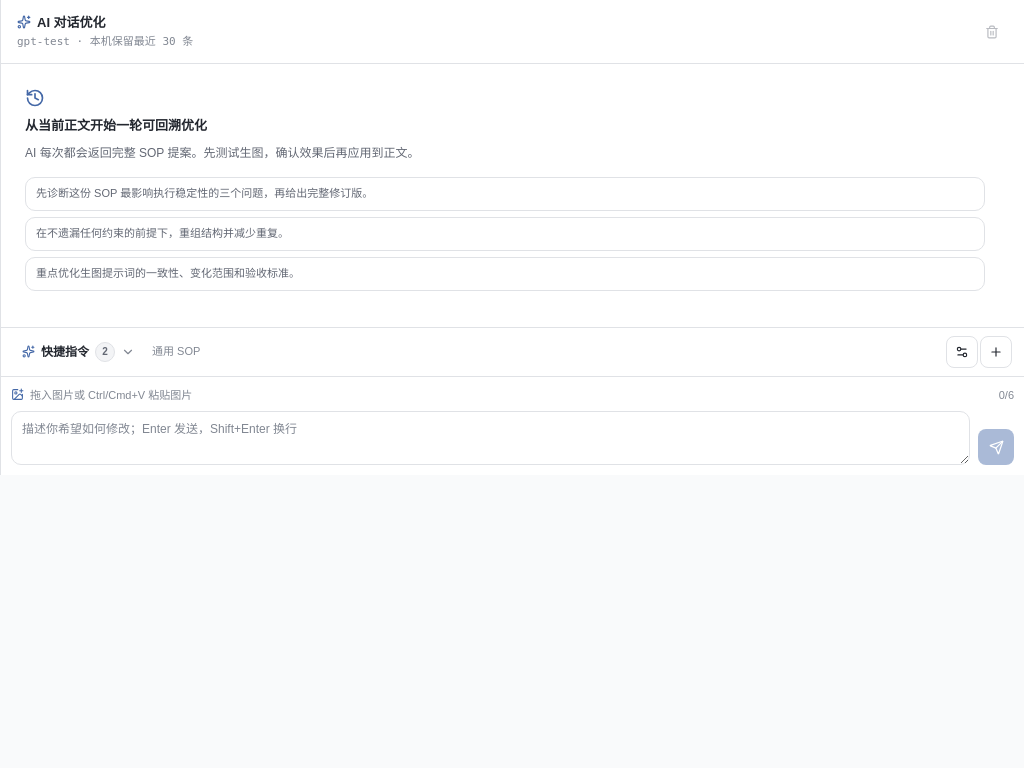
SopAiRevisionPanel custom quick instructions › restores custom instructions from localStorage and fills the composer when clicked
Click the button "快捷指令 2" at (78, 352), box [13,336,144,368]
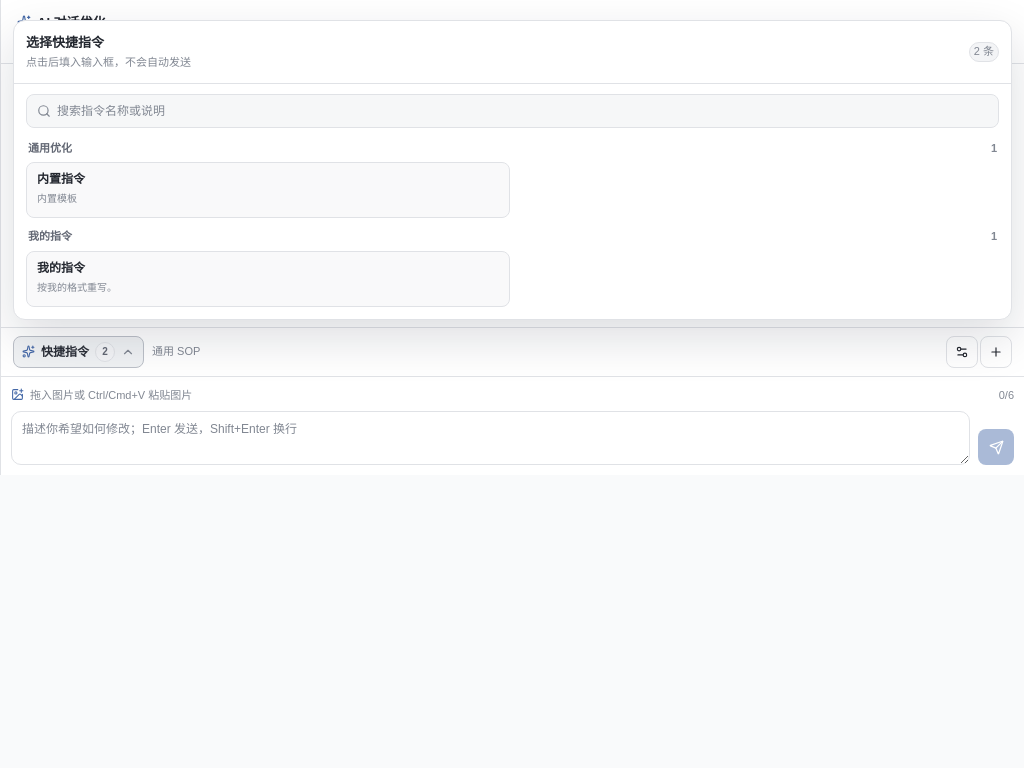
Check: the button "内置指令 内置模板" is shown, box [26,162,510,218]
Check: the button "我的指令 按我的格式重写。" is shown
Click the button "我的指令 按我的格式重写。" at (61, 268), box [26,250,510,306]
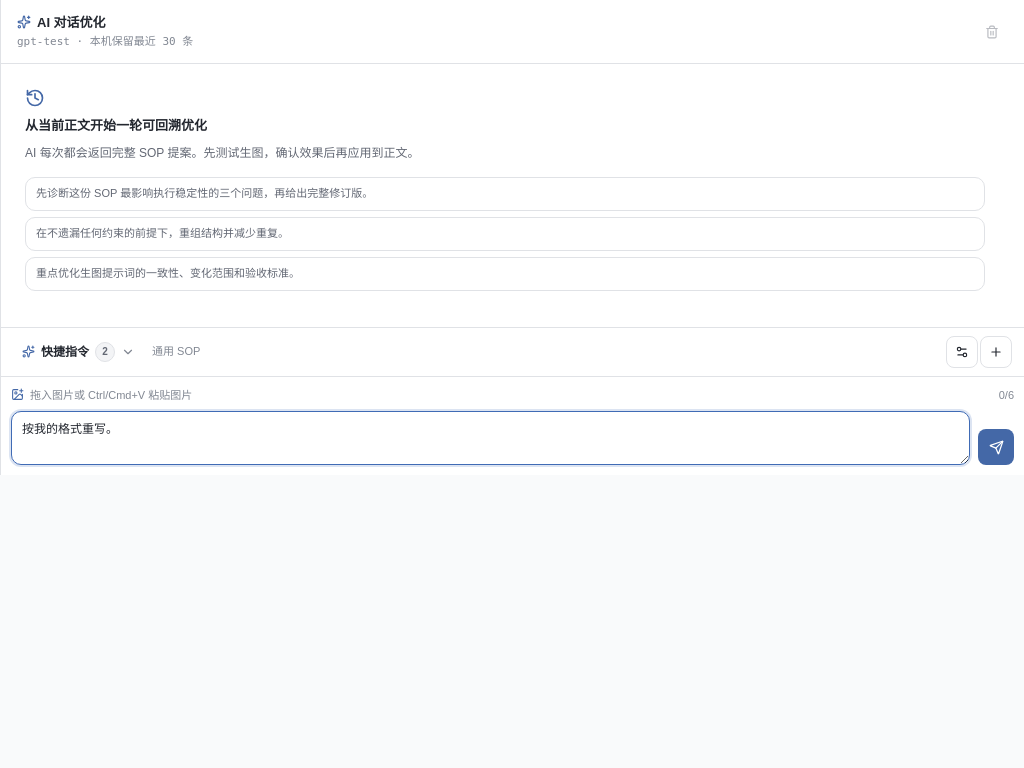
Check: the text box named "向 AI 描述 SOP 修改要求" holds "按我的格式重写。", box [11,411,970,465]
